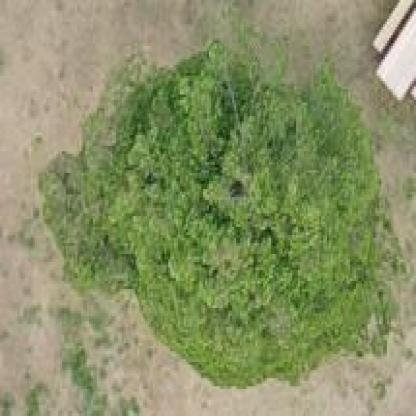Coniferous Tree: (46, 69, 410, 385)
